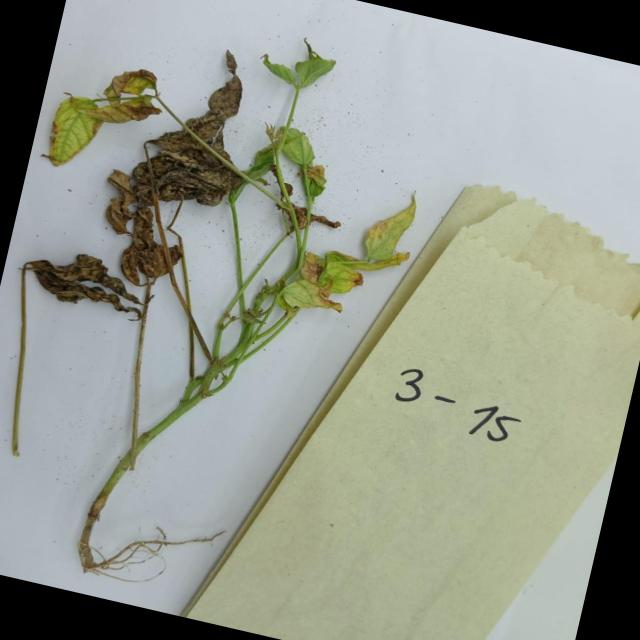Root: (72, 492, 225, 604)
Stem: (129, 306, 283, 486)
healty_leaves: (208, 28, 450, 346)
rooten_leaf: (51, 32, 264, 344)
